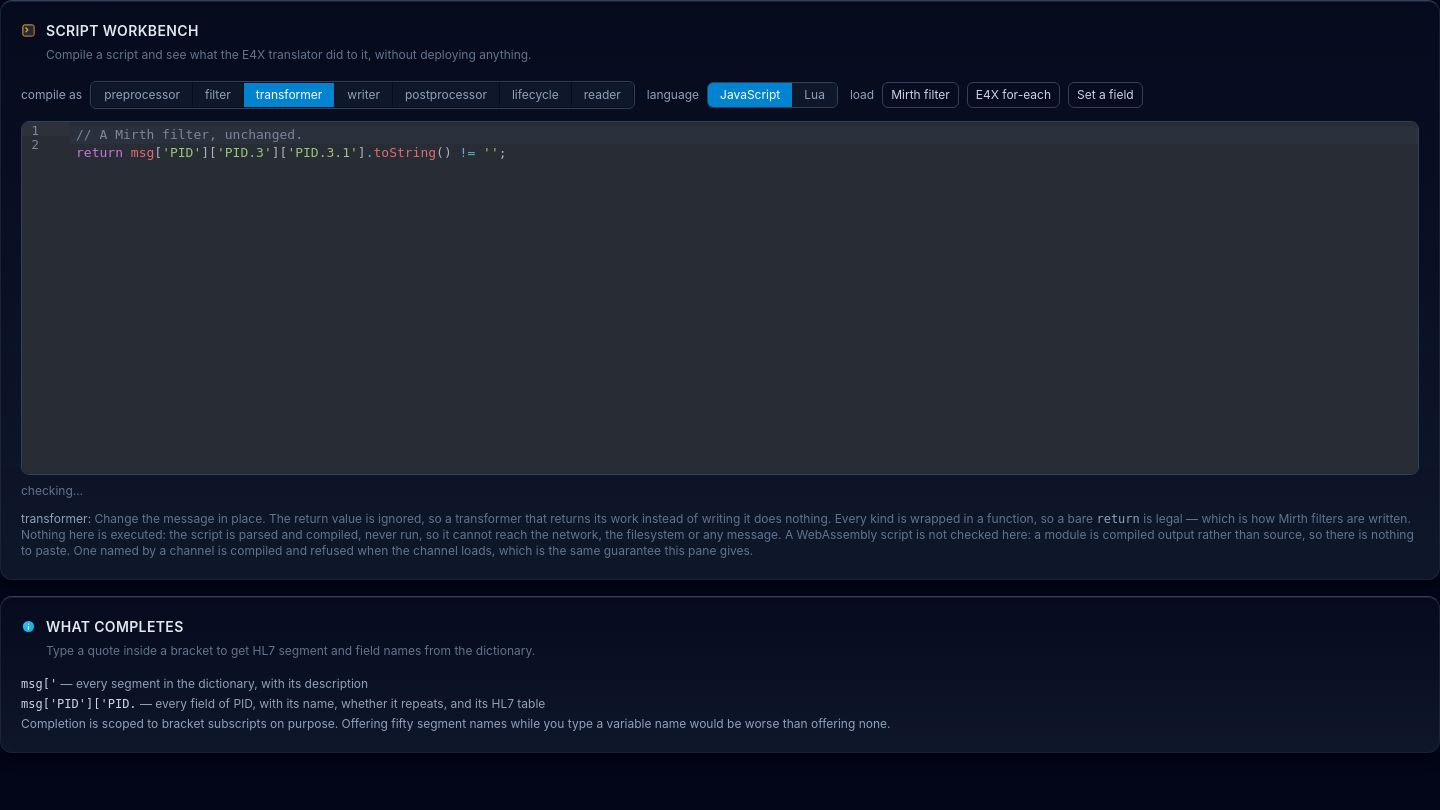
Scenario: the script workbench › shows only the samples for the chosen language
This screenshot has width=1440, height=810.
Expected: the button "Set a field" is shown, [1068, 82, 1143, 108]
Expected: the button "Write a field" is not shown
What coordinates should you click on to do the following:
click the button "Lua"
I would click on:
 (815, 94)
Its box is [792, 82, 837, 106].
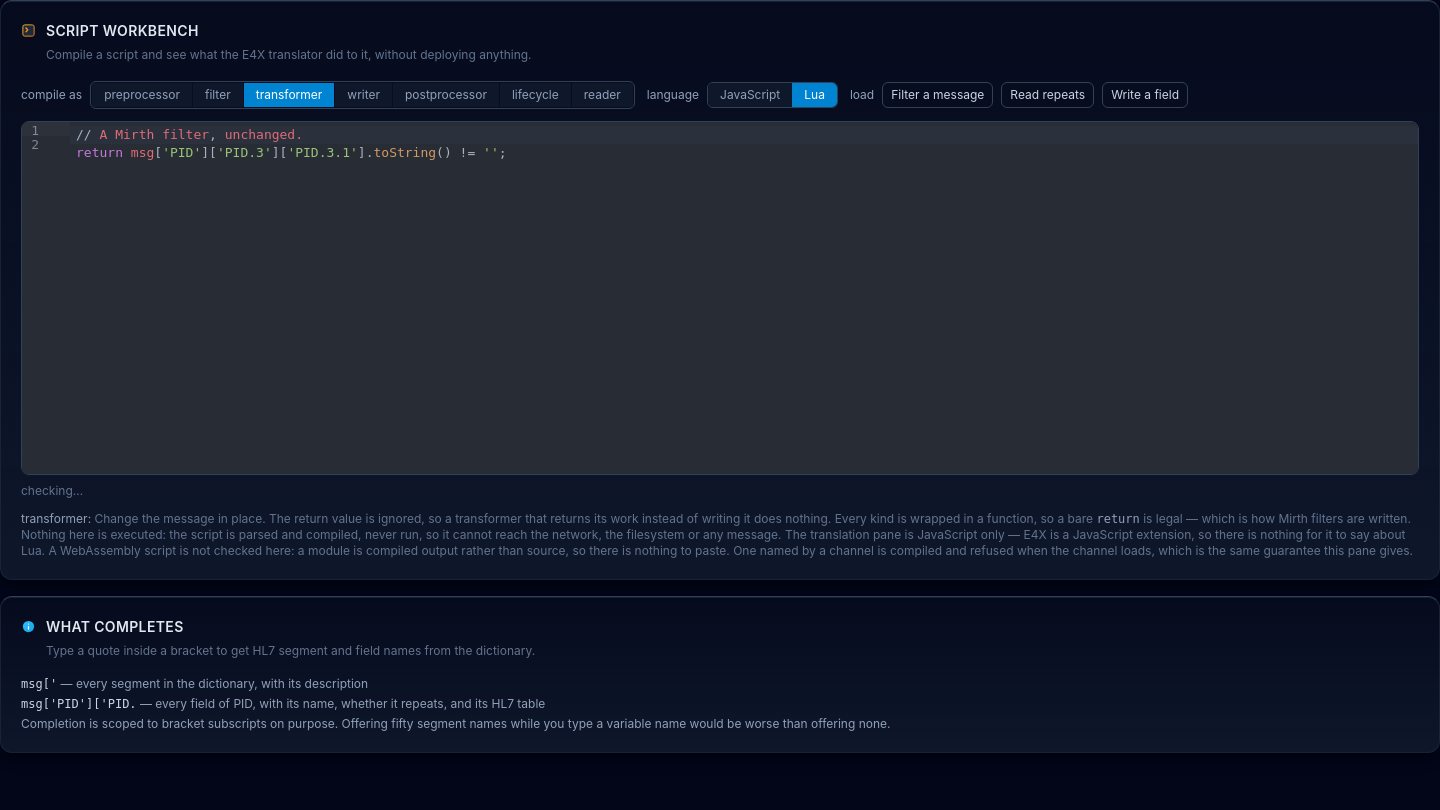
Now the button "Write a field" is shown, box [1102, 82, 1188, 108]
Now the button "Set a field" is gone
